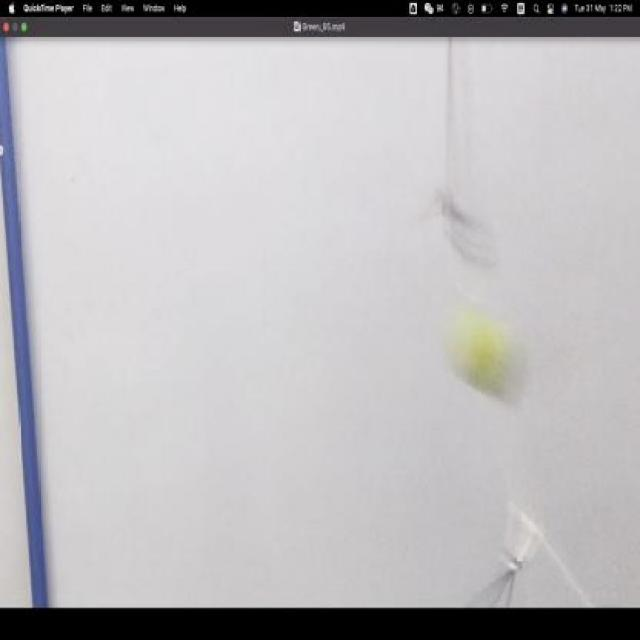baseball: (446, 298, 523, 407)
